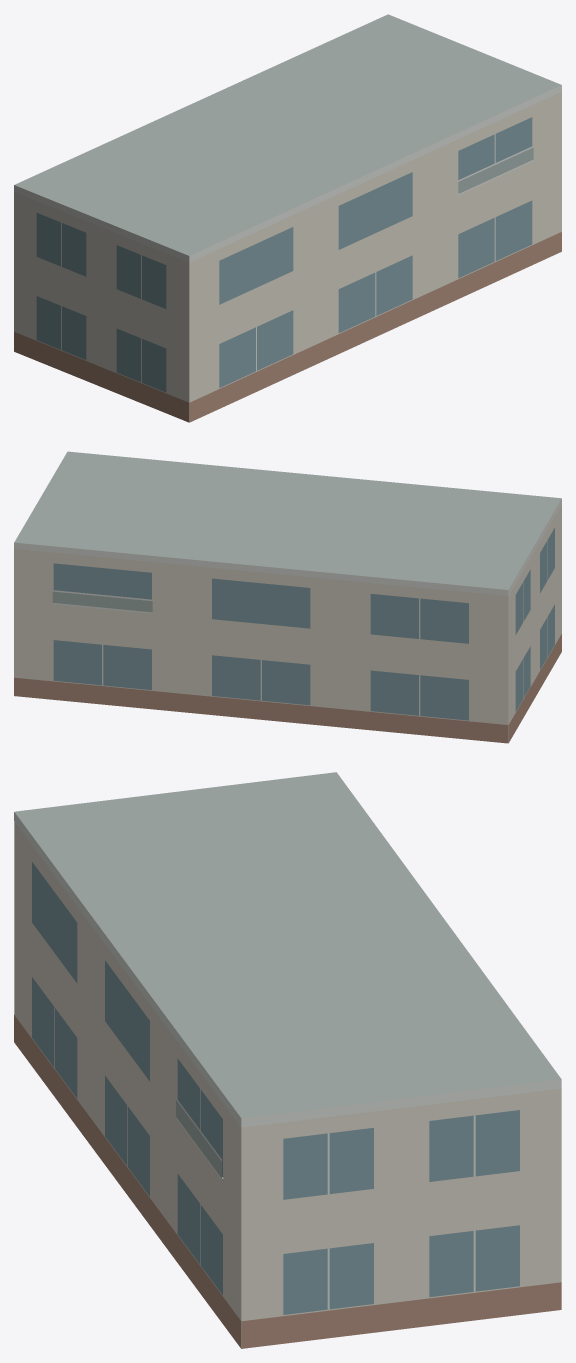
File: survey-upis-32878594.glb
The picture shows the model from 3 angles, top to bottom: view 1: azimuth 30°, elevation 25°; view 2: azimuth 150°, elevation 25°; view 3: azimuth 270°, elevation 25°; orthographic projection. The views are drawn at different scales.
Visible parts, largest first — view 1: survey-upis-32878594.tmp; view 2: survey-upis-32878594.tmp; view 3: survey-upis-32878594.tmp.
Part boxes in pixels (x1,y1,x2,y2): survey-upis-32878594.tmp: (14, 14, 561, 422); survey-upis-32878594.tmp: (14, 451, 561, 743); survey-upis-32878594.tmp: (14, 772, 561, 1348).
Bounding box in the file's own units: 19.67 × 6.1 × 13.15.
